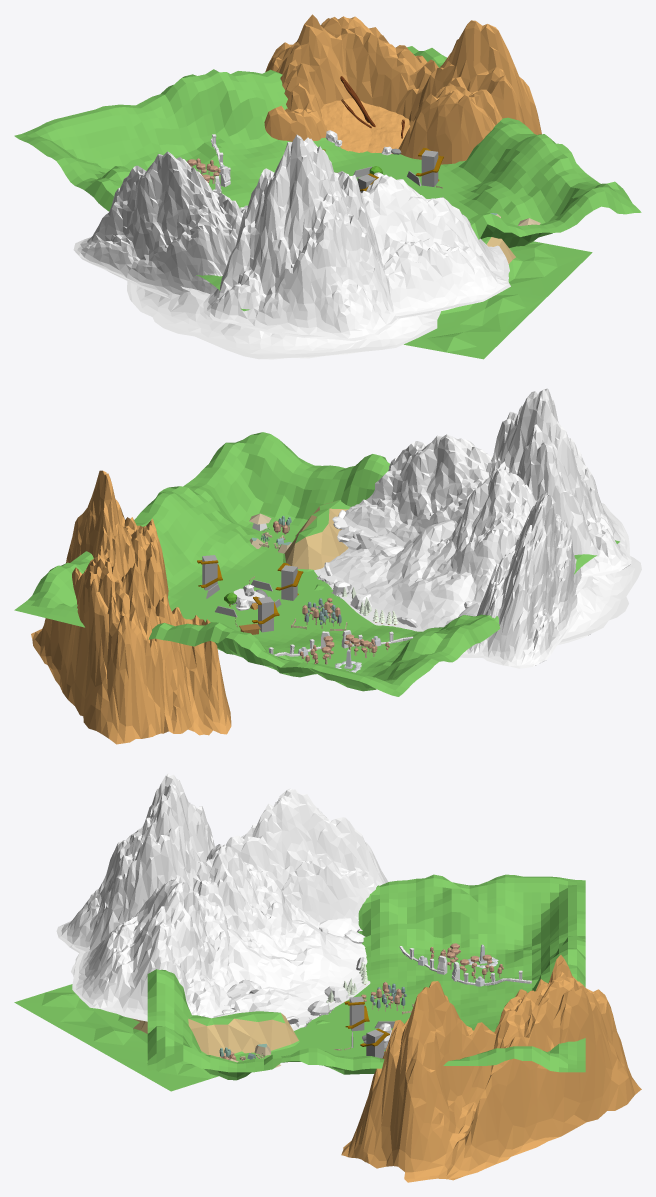
Rendered from mapv3.glb.
3 renders of one model, top to bottom at view 1: azimuth 30°, elevation 25°; view 2: azimuth 150°, elevation 25°; view 3: azimuth 270°, elevation 25°, orthographic. The views are drawn at different scales.
Visible parts, largest first — view 1: Terrain, Ice_Mountain__3_, Mounting_2, Ice_Mountain__4_, Ice_Mountain__2_, Terrain_1.001, Ice_Mountain, Environment_1, Cube; view 2: Terrain, Mounting_2, Ice_Mountain, Ice_Mountain__4_, Ice_Mountain__3_, Ice_Mountain__2_, Ice_Mountain__1_, Terrain_1.001, Cube_1; view 3: Terrain, Mounting_2, Ice_Mountain__2_, Ice_Mountain__4_, Ice_Mountain__3_, Terrain_1.001, Ice_Mountain, Ice_Mountain__1_.
Part boxes in pixels (x1=…): Terrain: x1=14, y1=46, x2=641, y2=311; Ice_Mountain__3_: x1=203, y1=134, x2=399, y2=340; Mounting_2: x1=264, y1=14, x2=541, y2=164; Ice_Mountain__4_: x1=73, y1=151, x2=242, y2=299; Ice_Mountain__2_: x1=362, y1=174, x2=510, y2=318; Terrain_1.001: x1=404, y1=237, x2=592, y2=359; Ice_Mountain: x1=127, y1=281, x2=440, y2=359; Environment_1: x1=320, y1=98, x2=410, y2=153; Cube: x1=421, y1=150, x2=438, y2=186; Terrain: x1=14, y1=432, x2=619, y2=696; Mounting_2: x1=31, y1=470, x2=231, y2=744; Ice_Mountain: x1=314, y1=520, x2=641, y2=657; Ice_Mountain__4_: x1=467, y1=492, x2=581, y2=668; Ice_Mountain__3_: x1=486, y1=388, x2=631, y2=576; Ice_Mountain__2_: x1=343, y1=434, x2=491, y2=547; Ice_Mountain__1_: x1=427, y1=468, x2=592, y2=604; Terrain_1.001: x1=283, y1=500, x2=350, y2=590; Cube_1: x1=281, y1=565, x2=297, y2=600; Terrain: x1=147, y1=874, x2=585, y2=1080; Mounting_2: x1=341, y1=955, x2=641, y2=1182; Ice_Mountain__2_: x1=72, y1=877, x2=238, y2=1021; Ice_Mountain__4_: x1=226, y1=788, x2=388, y2=931; Ice_Mountain__3_: x1=56, y1=773, x2=215, y2=953; Terrain_1.001: x1=14, y1=984, x2=330, y2=1091; Ice_Mountain: x1=71, y1=919, x2=370, y2=1030; Ice_Mountain__1_: x1=198, y1=844, x2=321, y2=953.
Size of what is drawn, in the model's own units: 235 by 108 by 269.
